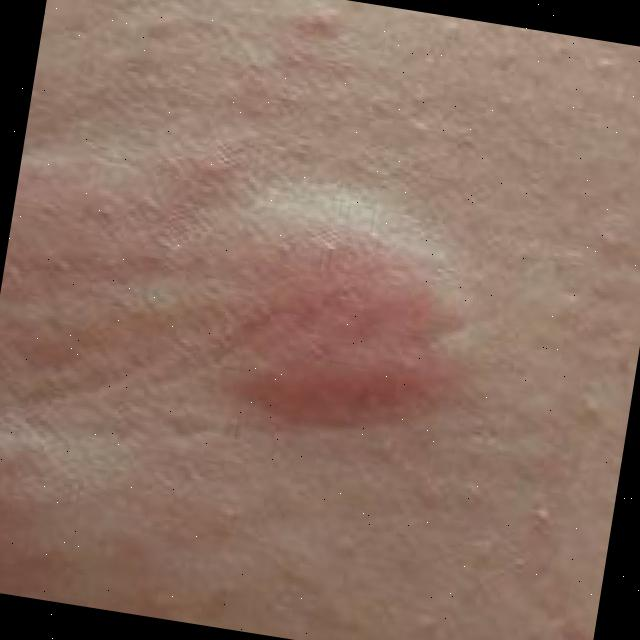sinek: (136, 174, 524, 467)
